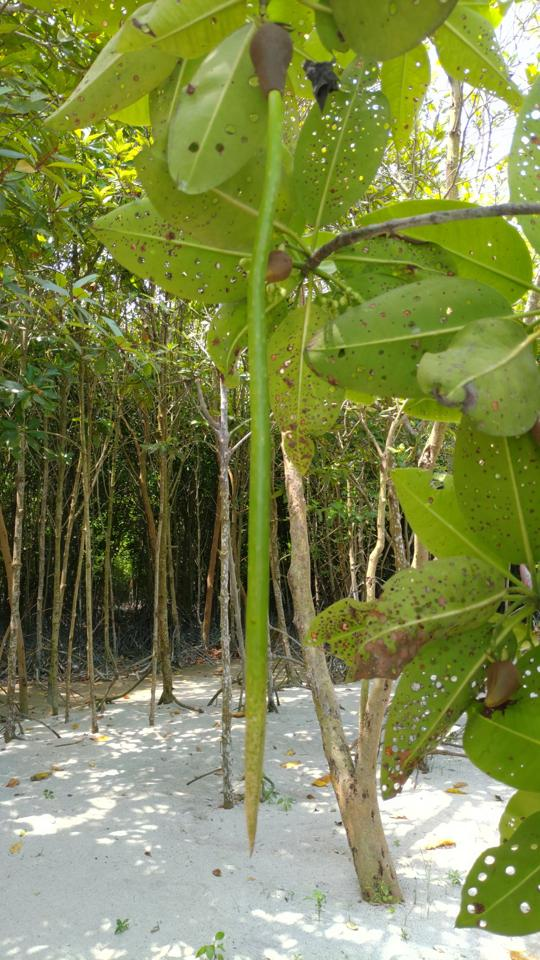mentah: (211, 7, 317, 866)
